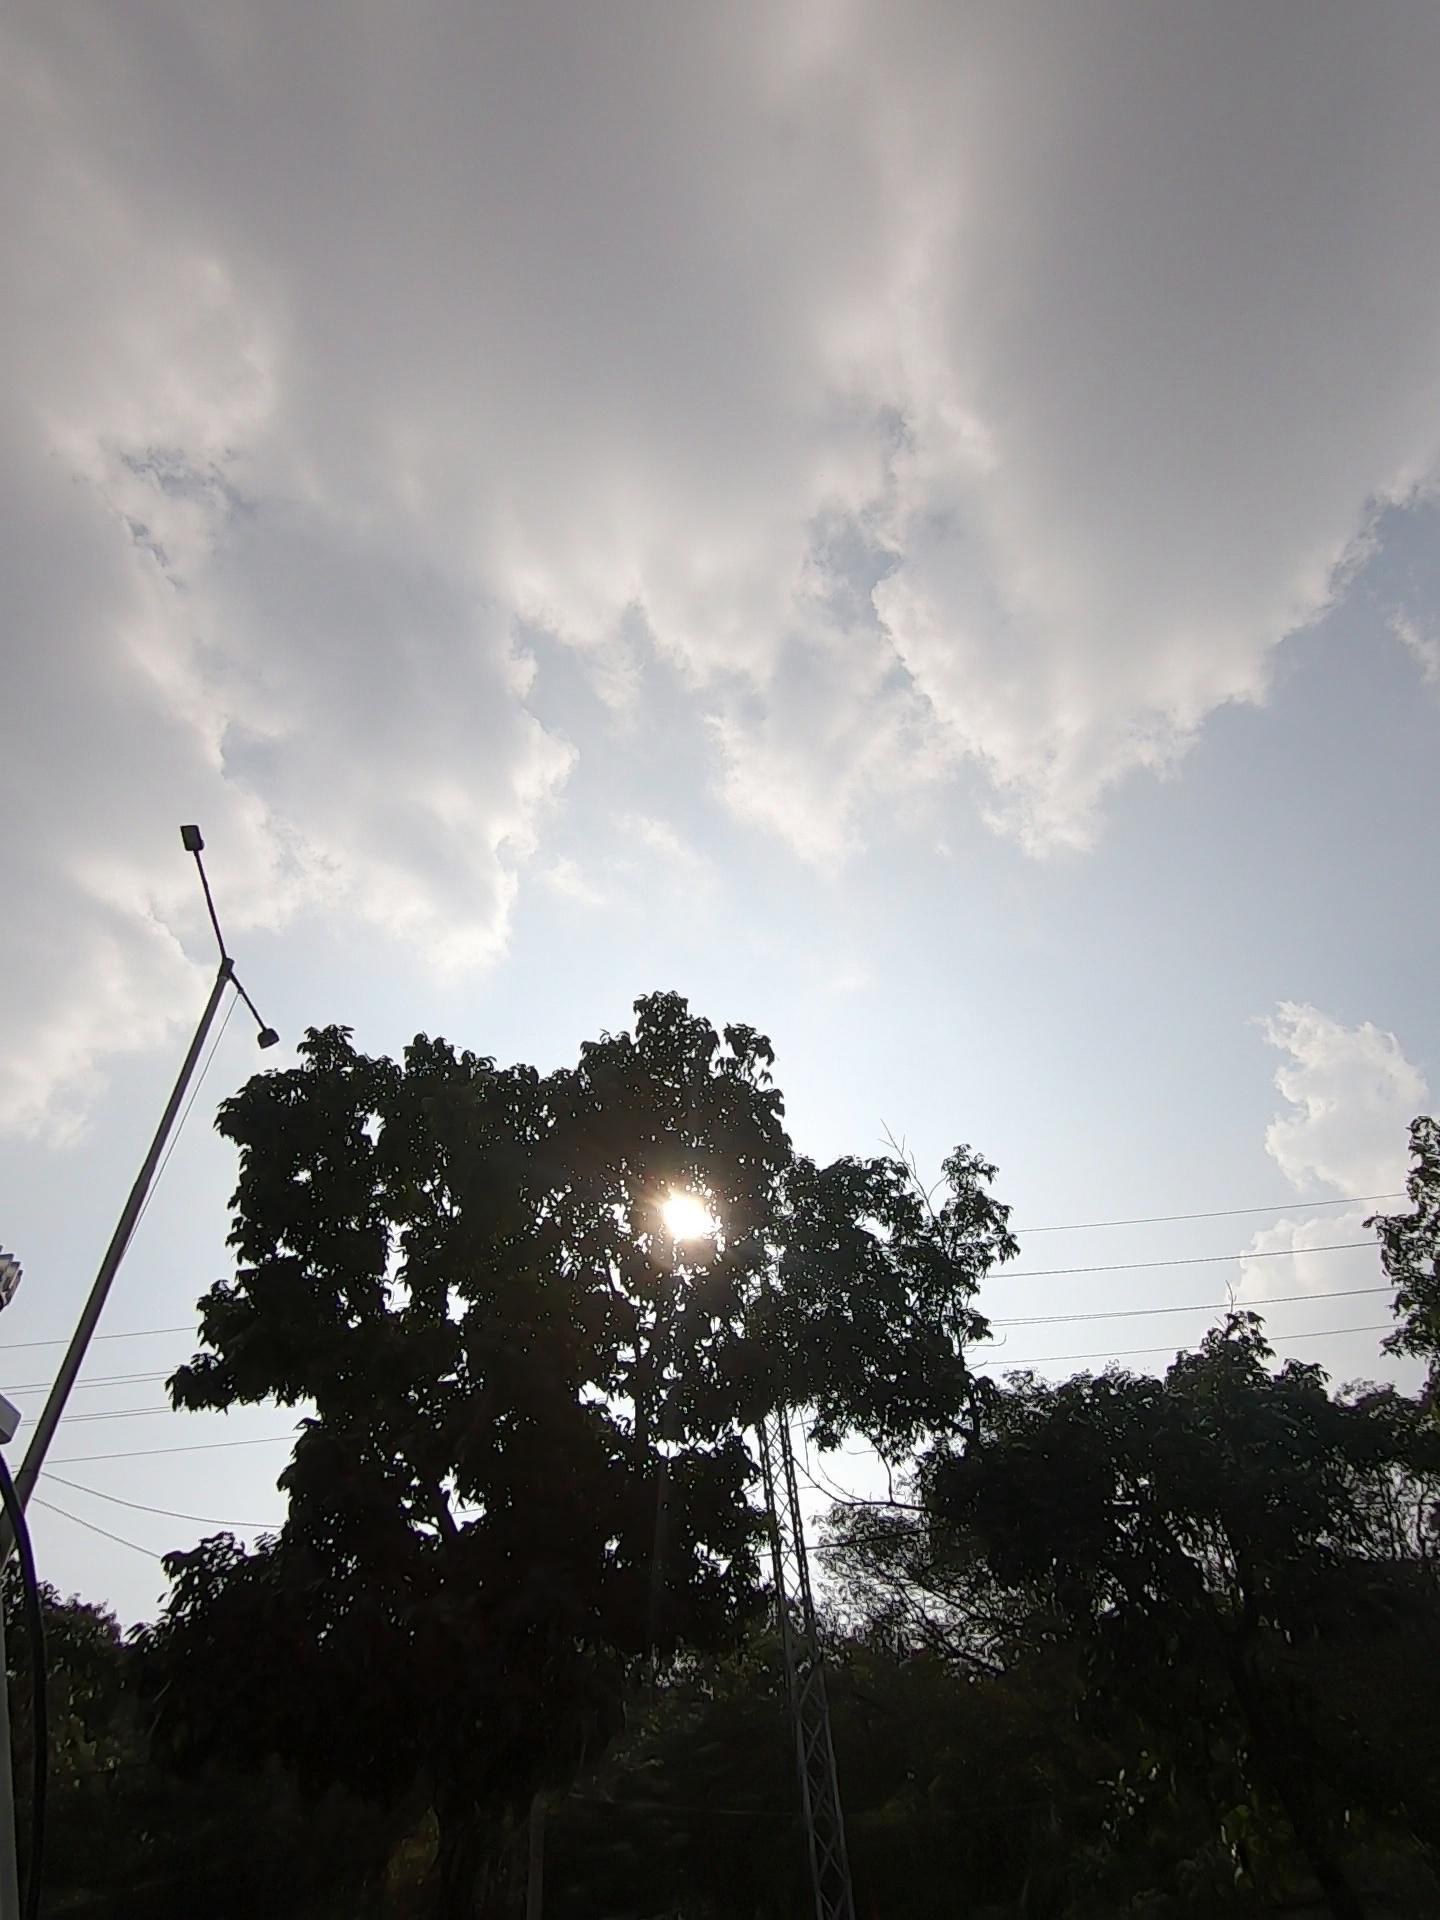off: (175, 680, 407, 1152)
